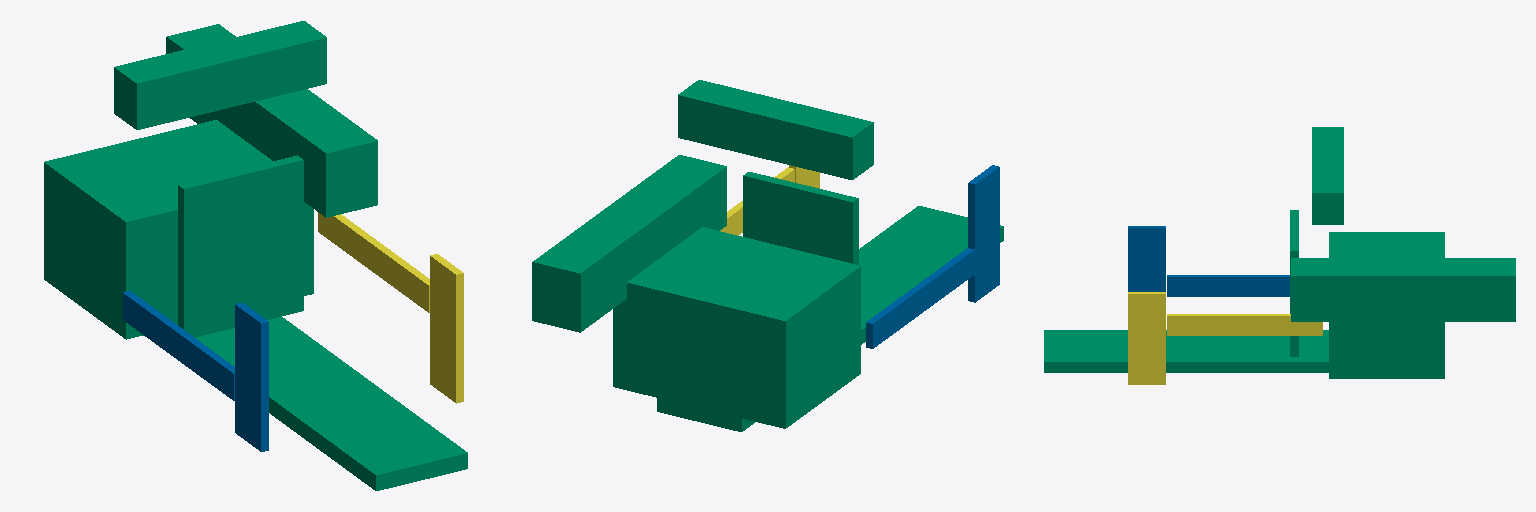
robot.urdf — tm5s_egu50:
<?xml version="1.0"?>
<robot name="tm5s_egu50">
  <link name="base" />
  <link name="link_0">
    <inertial>
      <mass value="1.0" />
      <inertia ixx="0.00270976" ixy="7.8e-07" ixz="-2.591e-05" iyy="0.00274974" iyz="7.81e-06" izz="0.00258497" />
    </inertial>
    <visual name="link_0">
      <geometry>
        <mesh filename="tm5s/meshes/tm5s-base_c.stl" />
      </geometry>
    </visual>
    <collision name="link_0">
      <geometry>
        <mesh filename="tm5s/meshes/tm5s-base_c.stl" />
      </geometry>
    </collision>
  </link>
  <link name="link_1">
    <inertial>
      <mass value="4.32000017" />
      <inertia ixx="0.01457232" ixy="5.284e-05" ixz="2.211e-05" iyy="0.0133901" iyz="3.468e-05" izz="0.0093386" />
    </inertial>
    <visual name="link_1">
      <geometry>
        <mesh filename="tm5s/meshes/tm5s-j1_c.stl" />
      </geometry>
    </visual>
    <collision name="link_1">
      <geometry>
        <mesh filename="tm5s/meshes/tm5s-j1_c.stl" />
      </geometry>
    </collision>
  </link>
  <link name="link_2">
    <inertial>
      <mass value="9.79599953" />
      <inertia ixx="0.25492888" ixy="0.00240641" ixz="-0.3156679" iyy="0.91542188" iyz="0.00118779" izz="0.68151734" />
    </inertial>
    <visual name="link_2">
      <geometry>
        <mesh filename="tm5s/meshes/tm5s-a1_c.stl" />
      </geometry>
    </visual>
    <collision name="link_2">
      <geometry>
        <mesh filename="tm5s/meshes/tm5s-a1_c.stl" />
      </geometry>
    </collision>
  </link>
  <link name="link_3">
    <inertial>
      <mass value="2.77800012" />
      <inertia ixx="0.00709924" ixy="0.0001504" ixz="-0.01471706" iyy="0.16585909" iyz="1.337e-05" izz="0.16255645" />
    </inertial>
    <visual name="link_3">
      <geometry>
        <mesh filename="tm5s/meshes/tm5s-a2_c.stl" />
      </geometry>
    </visual>
    <collision name="link_3">
      <geometry>
        <mesh filename="tm5s/meshes/tm5s-a2_c.stl" />
      </geometry>
    </collision>
  </link>
  <link name="link_4">
    <inertial>
      <mass value="1.76999998" />
      <inertia ixx="0.00375776" ixy="-5.023e-05" ixz="3.73e-06" iyy="0.00233051" iyz="-4.89e-06" izz="0.00323681" />
    </inertial>
    <visual name="link_4">
      <geometry>
        <mesh filename="tm5s/meshes/tm5s-j5_c.stl" />
      </geometry>
    </visual>
    <collision name="link_4">
      <geometry>
        <mesh filename="tm5s/meshes/tm5s-j5_c.stl" />
      </geometry>
    </collision>
  </link>
  <link name="link_5">
    <inertial>
      <mass value="1.76999998" />
      <inertia ixx="0.00375776" ixy="5.023e-05" ixz="3.73e-06" iyy="0.00233051" iyz="4.89e-06" izz="0.00323681" />
    </inertial>
    <visual name="link_5">
      <geometry>
        <mesh filename="tm5s/meshes/tm5s-j6_c.stl" />
      </geometry>
    </visual>
    <collision name="link_5">
      <geometry>
        <mesh filename="tm5s/meshes/tm5s-j6_c.stl" />
      </geometry>
    </collision>
  </link>
  <link name="link_6">
    <inertial>
      <mass value="2.31299996" />
      <inertia ixx="0.00268334" ixy="-0.00020618" ixz="2.72e-06" iyy="0.00110154" iyz="-1.259e-05" izz="0.00226163" />
    </inertial>
    <visual name="link_6">
      <geometry>
        <mesh filename="tm5s/meshes/tm5s-io_c.stl" />
      </geometry>
    </visual>
    <collision name="link_6">
      <geometry>
        <mesh filename="tm5s/meshes/tm5s-io_c.stl" />
      </geometry>
    </collision>
  </link>
  <link name="flange" />
  <link name="gripper_base" />
  <link name="gripper_body">
    <inertial>
      <origin xyz="0.0026128 -0.1053171 -0.0104483" rpy="0.0 -0.0 0.0" />
      <mass value="1.49" />
      <inertia ixx="0.0082277" ixy="0.0008049" ixz="2.19e-05" iyy="0.0023777" iyz="-9.7e-05" izz="0.0094396" />
    </inertial>
    <visual name="body">
      <origin xyz="0.0 -0.0465 0.0" rpy="0.0 -0.0 0.0" />
      <geometry>
        <mesh filename="egu50/meshes/body.obj" />
      </geometry>
    </visual>
    <visual name="plate">
      <origin xyz="0.0 -0.1605 -0.041" rpy="0.0 -0.0 0.0" />
      <geometry>
        <mesh filename="egu50/meshes/plate.obj" />
      </geometry>
    </visual>
    <visual name="d455">
      <origin xyz="0.0 -0.0937 0.11383" rpy="0.0 -0.0 0.0" />
      <geometry>
        <mesh filename="egu50/meshes/d455.obj" />
      </geometry>
    </visual>
    <visual name="air_cylinder_plate">
      <origin xyz="0.00011638004786032098 8.624109061026055e-09 6.175002579473658e-05" rpy="1.5703387269650668 1.9463877424824333e-07 0.0008624100012266484" />
      <geometry>
        <mesh filename="egu50/meshes/air_cylinder_plate.obj" />
      </geometry>
    </visual>
    <visual name="air_cylinder_body">
      <origin xyz="0.00011638004786032098 8.624109061026055e-09 6.175002579473658e-05" rpy="1.5703387269650668 1.9463877424824333e-07 0.0008624100012266484" />
      <geometry>
        <mesh filename="egu50/meshes/air_cylinder_body.obj" />
      </geometry>
    </visual>
    <collision name="body">
      <origin xyz="0.0 -0.0465 0.0" rpy="0.0 -0.0 0.0" />
      <geometry>
        <mesh filename="egu50/meshes/body.obj" />
      </geometry>
    </collision>
    <collision name="plate">
      <origin xyz="0.0 -0.1605 -0.041" rpy="0.0 -0.0 0.0" />
      <geometry>
        <mesh filename="egu50/meshes/plate.obj" />
      </geometry>
    </collision>
    <collision name="d455">
      <origin xyz="0.0 -0.0937 0.11383" rpy="0.0 -0.0 0.0" />
      <geometry>
        <mesh filename="egu50/meshes/d455.obj" />
      </geometry>
    </collision>
    <collision name="air_cylinder_plate">
      <origin xyz="0.00011638004786032098 8.624109061026055e-09 6.175002579473658e-05" rpy="1.5703387269650668 1.9463877424824333e-07 0.0008624100012266484" />
      <geometry>
        <mesh filename="egu50/meshes/air_cylinder_plate.obj" />
      </geometry>
    </collision>
    <collision name="air_cylinder_body">
      <origin xyz="0.00011638004786032098 8.624109061026055e-09 6.175002579473658e-05" rpy="1.5703387269650668 1.9463877424824333e-07 0.0008624100012266484" />
      <geometry>
        <mesh filename="egu50/meshes/air_cylinder_body.obj" />
      </geometry>
    </collision>
  </link>
  <link name="right_gripper">
    <visual name="right_gripper_0">
      <geometry>
        <mesh filename="egu50/meshes/right_gripper_0.obj" />
      </geometry>
    </visual>
    <visual name="right_gripper_1">
      <geometry>
        <mesh filename="egu50/meshes/right_gripper_1.obj" />
      </geometry>
    </visual>
    <collision name="right_gripper_0">
      <geometry>
        <mesh filename="egu50/meshes/right_gripper_0.obj" />
      </geometry>
    </collision>
    <collision name="right_gripper_1">
      <geometry>
        <mesh filename="egu50/meshes/right_gripper_1.obj" />
      </geometry>
    </collision>
  </link>
  <link name="left_gripper">
    <visual name="left_gripper_0">
      <geometry>
        <mesh filename="egu50/meshes/left_gripper_0.obj" />
      </geometry>
    </visual>
    <visual name="left_gripper_1">
      <geometry>
        <mesh filename="egu50/meshes/left_gripper_1.obj" />
      </geometry>
    </visual>
    <collision name="left_gripper_0">
      <geometry>
        <mesh filename="egu50/meshes/left_gripper_0.obj" />
      </geometry>
    </collision>
    <collision name="left_gripper_1">
      <geometry>
        <mesh filename="egu50/meshes/left_gripper_1.obj" />
      </geometry>
    </collision>
  </link>
  <joint name="base_fixed_joint" type="fixed">
    <parent link="base" />
    <child link="link_0" />
  </joint>
  <joint name="joint_1" type="revolute">
    <origin xyz="0.0 0.0 0.14839999" rpy="0.0 -0.0 0.0" />
    <parent link="link_0" />
    <child link="link_1" />
    <axis xyz="0.0 0.0 1.0" />
    <limit lower="-6.28318531" upper="6.28318531" effort="157.0" velocity="3.66519143" />
  </joint>
  <joint name="joint_2" type="revolute">
    <origin xyz="0.0 0.0 0.0" rpy="0.0 -1.57079594 -1.57079595" />
    <parent link="link_1" />
    <child link="link_2" />
    <axis xyz="0.0 0.0 1.0" />
    <limit lower="-6.28318531" upper="6.28318531" effort="157.0" velocity="3.66519143" />
  </joint>
  <joint name="joint_3" type="revolute">
    <origin xyz="0.42900004 -3e-08 1e-08" rpy="-4e-08 -5e-08 -4e-08" />
    <parent link="link_2" />
    <child link="link_3" />
    <axis xyz="0.0 0.0 1.0" />
    <limit lower="-2.75762022" upper="2.75762022" effort="157.0" velocity="3.66519143" />
  </joint>
  <joint name="joint_4" type="revolute">
    <origin xyz="0.38599999 -3e-08 -0.14780001" rpy="0.0 -0.0 1.57079597" />
    <parent link="link_3" />
    <child link="link_4" />
    <axis xyz="0.0 0.0 1.0" />
    <limit lower="-6.28318531" upper="6.28318531" effort="54.0" velocity="3.92699082" />
  </joint>
  <joint name="joint_5" type="revolute">
    <origin xyz="-1e-08 -0.13149999 3e-08" rpy="1.5707959 -0.0 2.0000000000000004e-08" />
    <parent link="link_4" />
    <child link="link_5" />
    <axis xyz="0.0 0.0 1.0" />
    <limit lower="-6.28318531" upper="6.28318531" effort="54.0" velocity="3.92699082" />
  </joint>
  <joint name="joint_6" type="revolute">
    <origin xyz="0.00011638 -0.13494993 6.163e-05" rpy="1.57033882 2e-07 0.00086241" />
    <parent link="link_5" />
    <child link="link_6" />
    <axis xyz="0.0 0.0 1.0" />
    <limit lower="-6.28318531" upper="6.28318531" effort="34.0" velocity="7.85398163" />
  </joint>
  <joint name="flange_fixed_joint" type="fixed">
    <origin xyz="-0.00011638 -6.175e-05 -1.2e-07" rpy="0.00045759999999999996 -0.00086241 -2.0000000000000002e-07" />
    <parent link="link_6" />
    <child link="flange" />
  </joint>
  <joint name="gripper_fixed" type="fixed">
    <parent link="gripper_base" />
    <child link="gripper_body" />
  </joint>
  <joint name="right_gripper_joint" type="prismatic">
    <origin xyz="0.02614 -0.0880107 0.02911" rpy="0.0 -0.0 -1.5707964" />
    <parent link="gripper_body" />
    <child link="right_gripper" />
    <axis xyz="0.0 1.0 0.0" />
    <limit lower="0.00985" upper="0.06085" effort="100.0" velocity="0.1" />
  </joint>
  <joint name="left_gripper_joint" type="prismatic">
    <origin xyz="-0.0261453 -0.0880107 -0.029113" rpy="-3.1415926071795868 -0.0 -1.5707964" />
    <parent link="gripper_body" />
    <child link="left_gripper" />
    <axis xyz="0.0 1.0 0.0" />
    <limit lower="0.00985" upper="0.06085" effort="100.0" velocity="0.1" />
  </joint>
  <joint name="flange_to_gripper" type="fixed">
    <origin xyz="0.0 0.0 0.0" rpy="-1.5707963267948966 -0.0 0.0" />
    <parent link="flange" />
    <child link="gripper_base" />
  </joint>
</robot>

--- Render facts (derived) ---
3 views of the same robot in one strip: view 1: azimuth 30°, elevation 25°; view 2: azimuth 150°, elevation 25°; view 3: azimuth 270°, elevation 25° (orthographic).
Model tm5s_egu50 with 13 links and 12 joints (6 revolute, 2 prismatic, 4 fixed), rooted at base, posed all joints at 0 but 2 set to mid-range because 0 is outside their limits (right_gripper_joint = 0.0353, left_gripper_joint = 0.0353).
Links seen in each view (by area): view 1: gripper_body, left_gripper, right_gripper; view 2: gripper_body, left_gripper, right_gripper; view 3: gripper_body, right_gripper, left_gripper.
Link boxes in pixels (x1,y1,x2,y2): gripper_body: [44, 21, 467, 490]; left_gripper: [123, 291, 268, 451]; right_gripper: [318, 212, 463, 403]; gripper_body: [532, 80, 1003, 431]; left_gripper: [866, 165, 999, 348]; right_gripper: [720, 165, 819, 235]; gripper_body: [1044, 127, 1515, 378]; right_gripper: [1128, 292, 1322, 384]; left_gripper: [1128, 226, 1289, 296].
Bounding box of the posed robot: 0.1517 × 0.3775 × 0.1743 m (x, y, z).
9 mesh visuals loaded from 16 distinct referenced files (9 OBJ); not drawn: 7 (reference not matched to a file when rendering).
